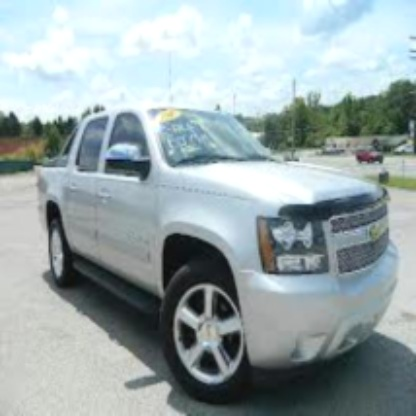Vehicle: (37, 102, 404, 398)
